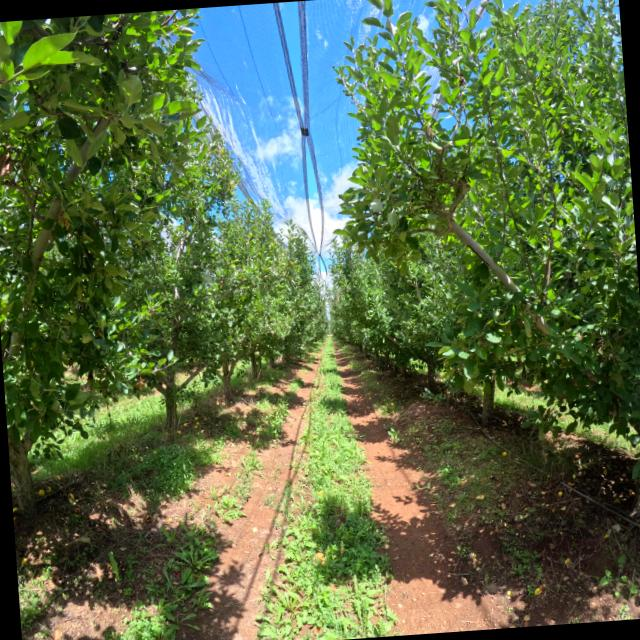-FireBlight-: (0, 151, 21, 178), (136, 376, 145, 391)
